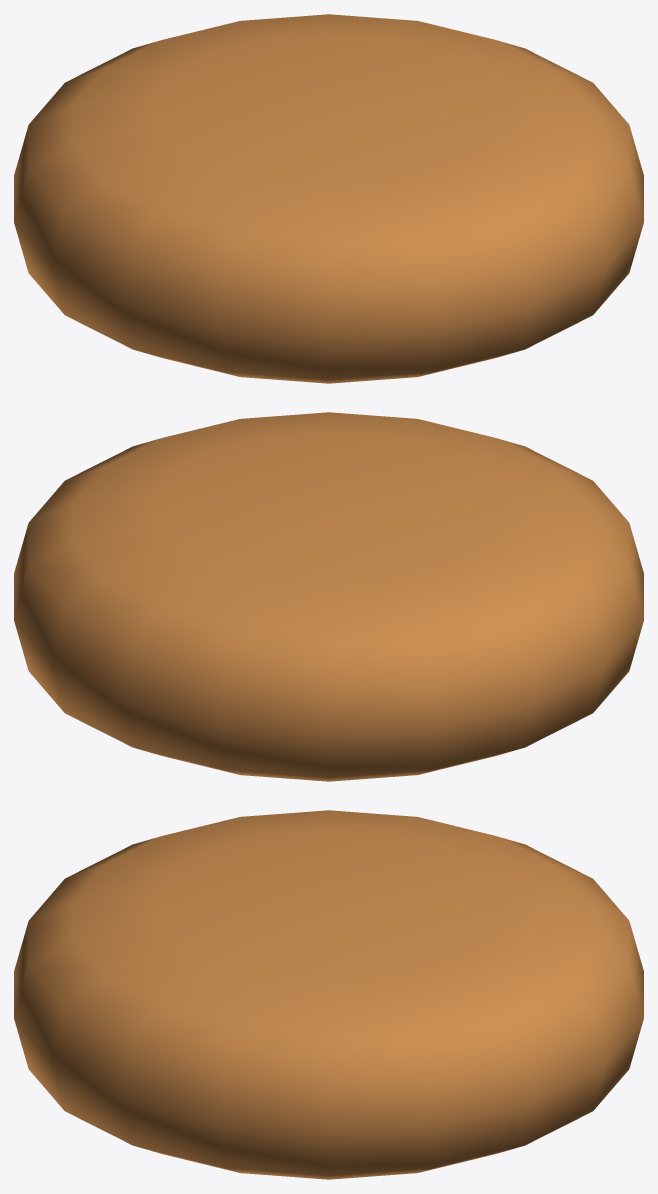
File: cookie.glb
3 renders of one model, top to bottom at view 1: azimuth 30°, elevation 25°; view 2: azimuth 150°, elevation 25°; view 3: azimuth 270°, elevation 25°, orthographic.
Visible parts, largest first — view 1: item; view 2: item; view 3: item.
Part boxes in pixels (box(x1,y1,x2,y2)): item: box(14, 14, 643, 383); item: box(14, 412, 643, 781); item: box(14, 810, 643, 1179).
Size of the model in its own units: 0.44 by 0.14 by 0.4333.
Materials: 1 (1 with a texture image).
